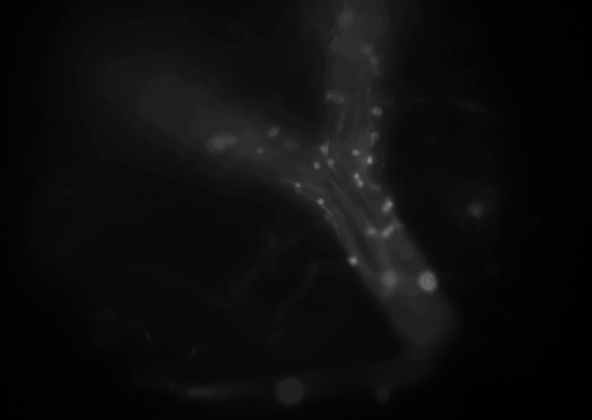cell: (421, 274, 435, 288), (370, 104, 384, 118), (348, 145, 362, 159), (362, 154, 376, 168), (318, 141, 332, 155), (309, 158, 323, 172), (324, 154, 338, 168), (324, 87, 338, 101), (349, 170, 363, 184), (335, 91, 349, 105), (353, 176, 367, 190), (346, 253, 360, 267), (382, 271, 396, 285), (381, 229, 395, 243), (383, 196, 397, 210), (385, 220, 399, 234), (379, 202, 393, 216), (312, 193, 326, 207), (290, 179, 304, 193), (253, 145, 267, 159), (211, 135, 225, 149), (360, 44, 374, 58), (367, 53, 381, 67), (331, 38, 345, 52), (366, 130, 380, 144), (267, 124, 281, 138), (369, 180, 383, 194), (363, 225, 377, 239)
